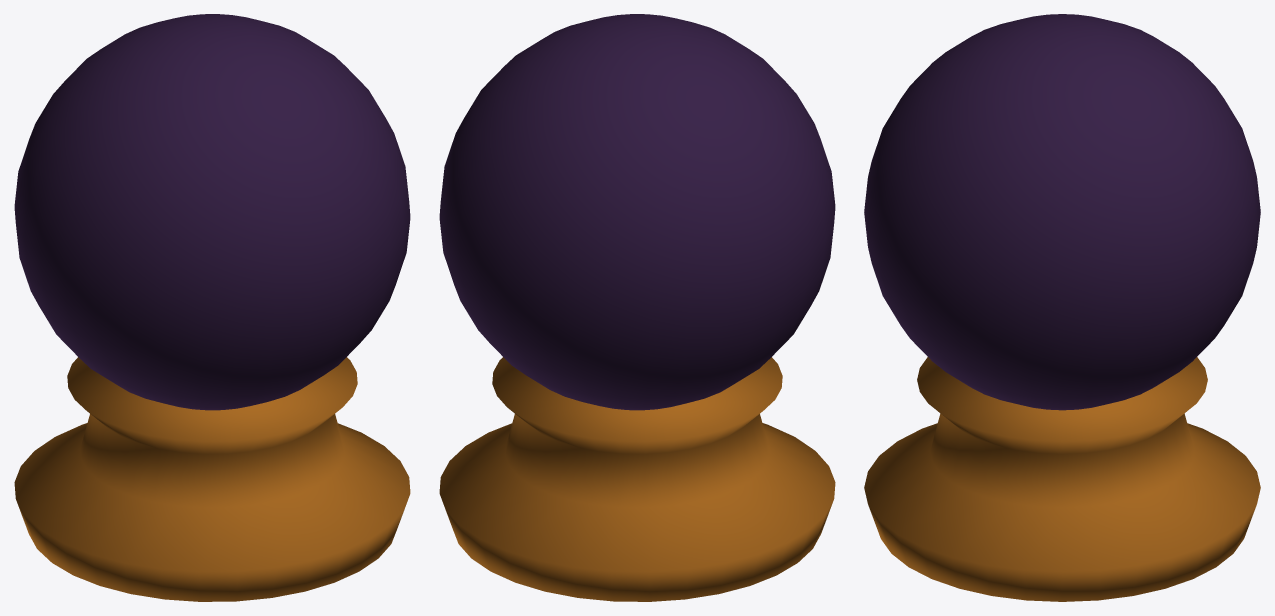
Rendered from crystal_ball.obj.
The picture shows the model from 3 angles, left to right: view 1: azimuth 30°, elevation 25°; view 2: azimuth 150°, elevation 25°; view 3: azimuth 270°, elevation 25°; orthographic projection.
Visible parts, largest first — view 1: LH_crystal_ball; view 2: LH_crystal_ball; view 3: LH_crystal_ball.
Boxes of the visible parts, x1,y1,x2,y2 form: LH_crystal_ball: [14, 14, 410, 601]; LH_crystal_ball: [439, 14, 835, 601]; LH_crystal_ball: [864, 14, 1260, 601].
Size of the model in its own units: 0.15 by 0.205 by 0.15.
